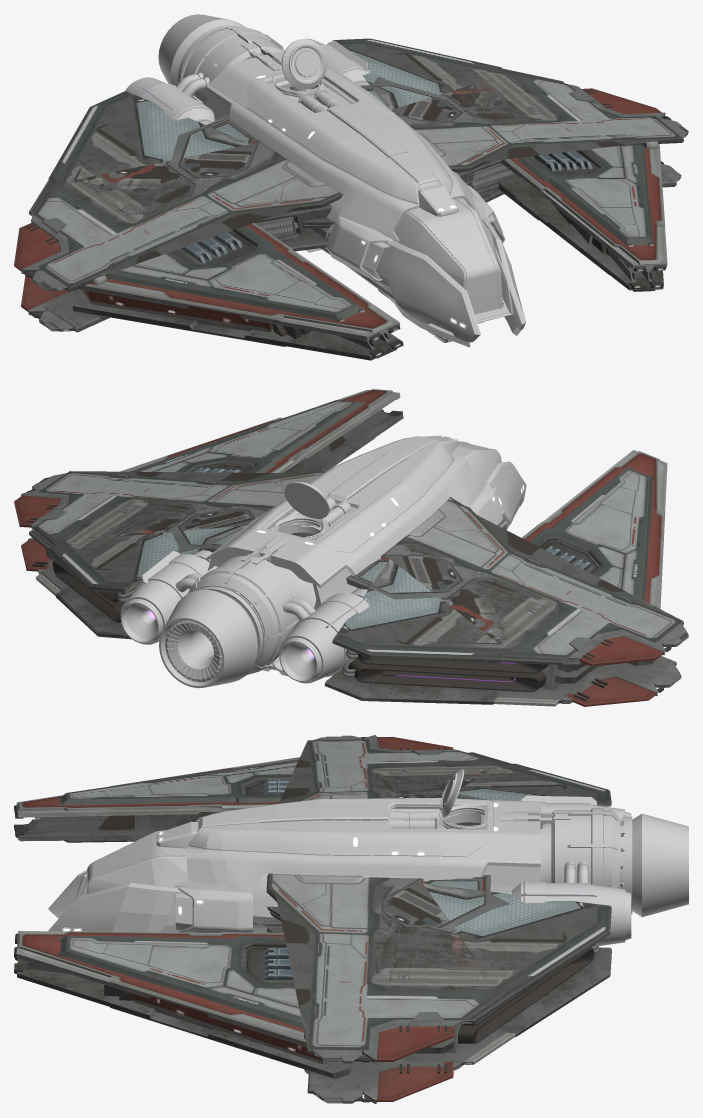
File: ship_modified.fbx
3 renders of one model, top to bottom at view 1: azimuth 30°, elevation 25°; view 2: azimuth 150°, elevation 25°; view 3: azimuth 270°, elevation 25°, orthographic. The views are drawn at different scales.
Visible parts, largest first — view 1: Cube.003, Cube.010; view 2: Cube.003, Cube.010; view 3: Cube.003, Cube.010.
Boxes of the visible parts, box(x1,y1,x2,y2) form: Cube.003: box(14, 38, 688, 360); Cube.010: box(125, 14, 525, 347); Cube.003: box(14, 389, 688, 706); Cube.010: box(120, 435, 526, 688); Cube.003: box(14, 735, 611, 1103); Cube.010: box(48, 769, 688, 945).
Size of the model in its own units: 1227 by 344 by 1078.
